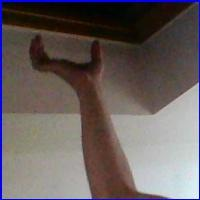space: (20, 32, 110, 86)
